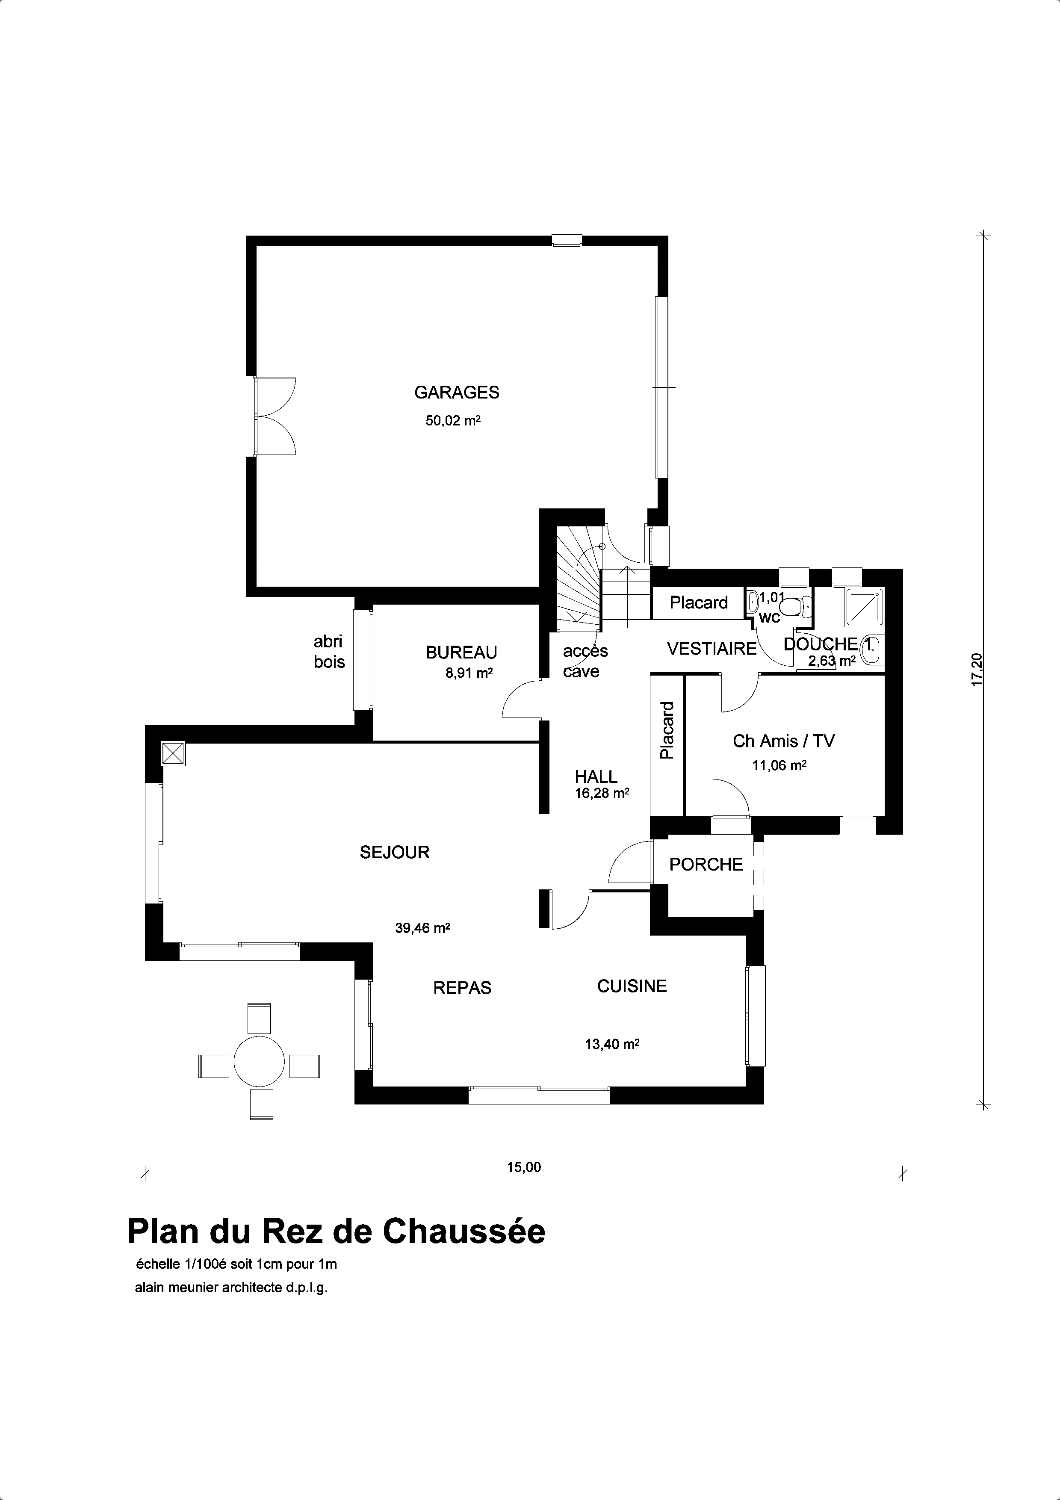ceramic sink: (745, 589, 759, 614)
door: (501, 675, 552, 726), (607, 839, 655, 884), (602, 522, 650, 564), (548, 889, 592, 930), (754, 627, 797, 667)
sliding door: (177, 938, 302, 962), (468, 1085, 611, 1106), (145, 781, 165, 906), (354, 979, 374, 1071)
square bath tab: (843, 587, 884, 627)
toilet: (778, 595, 812, 618)
window: (245, 375, 297, 459), (745, 964, 767, 1068), (716, 672, 761, 713), (550, 232, 583, 248)
